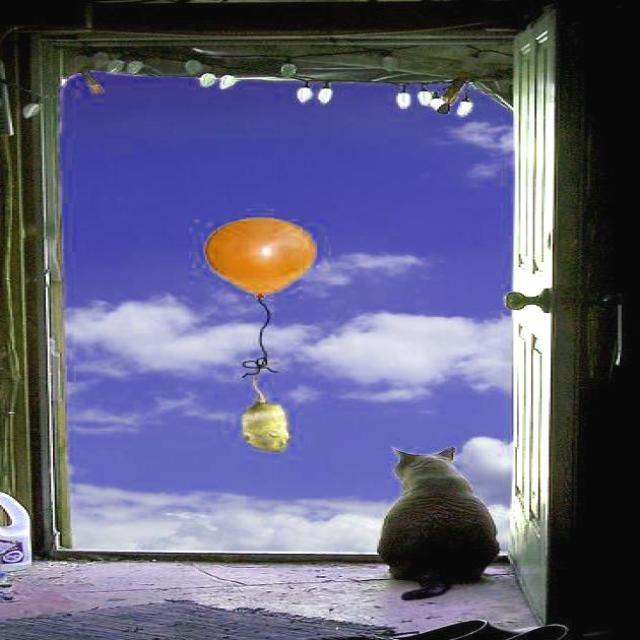door: (506, 16, 602, 638)
